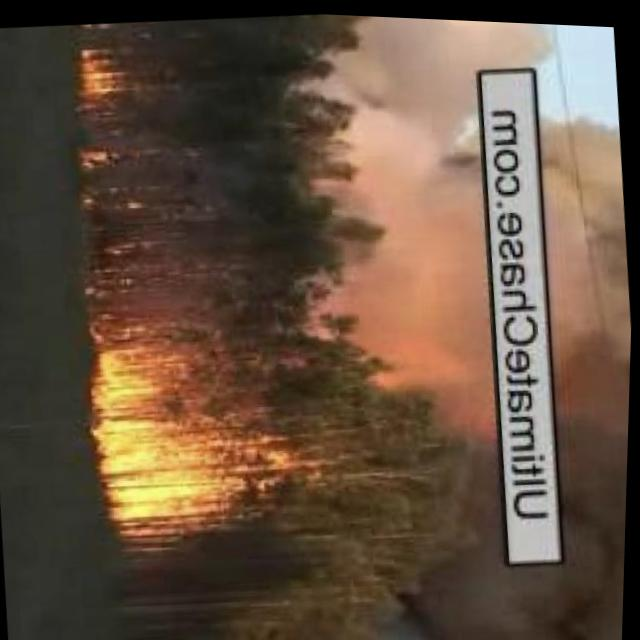Fire: (88, 327, 251, 541), (84, 241, 146, 339), (71, 143, 140, 219), (77, 43, 125, 104)
